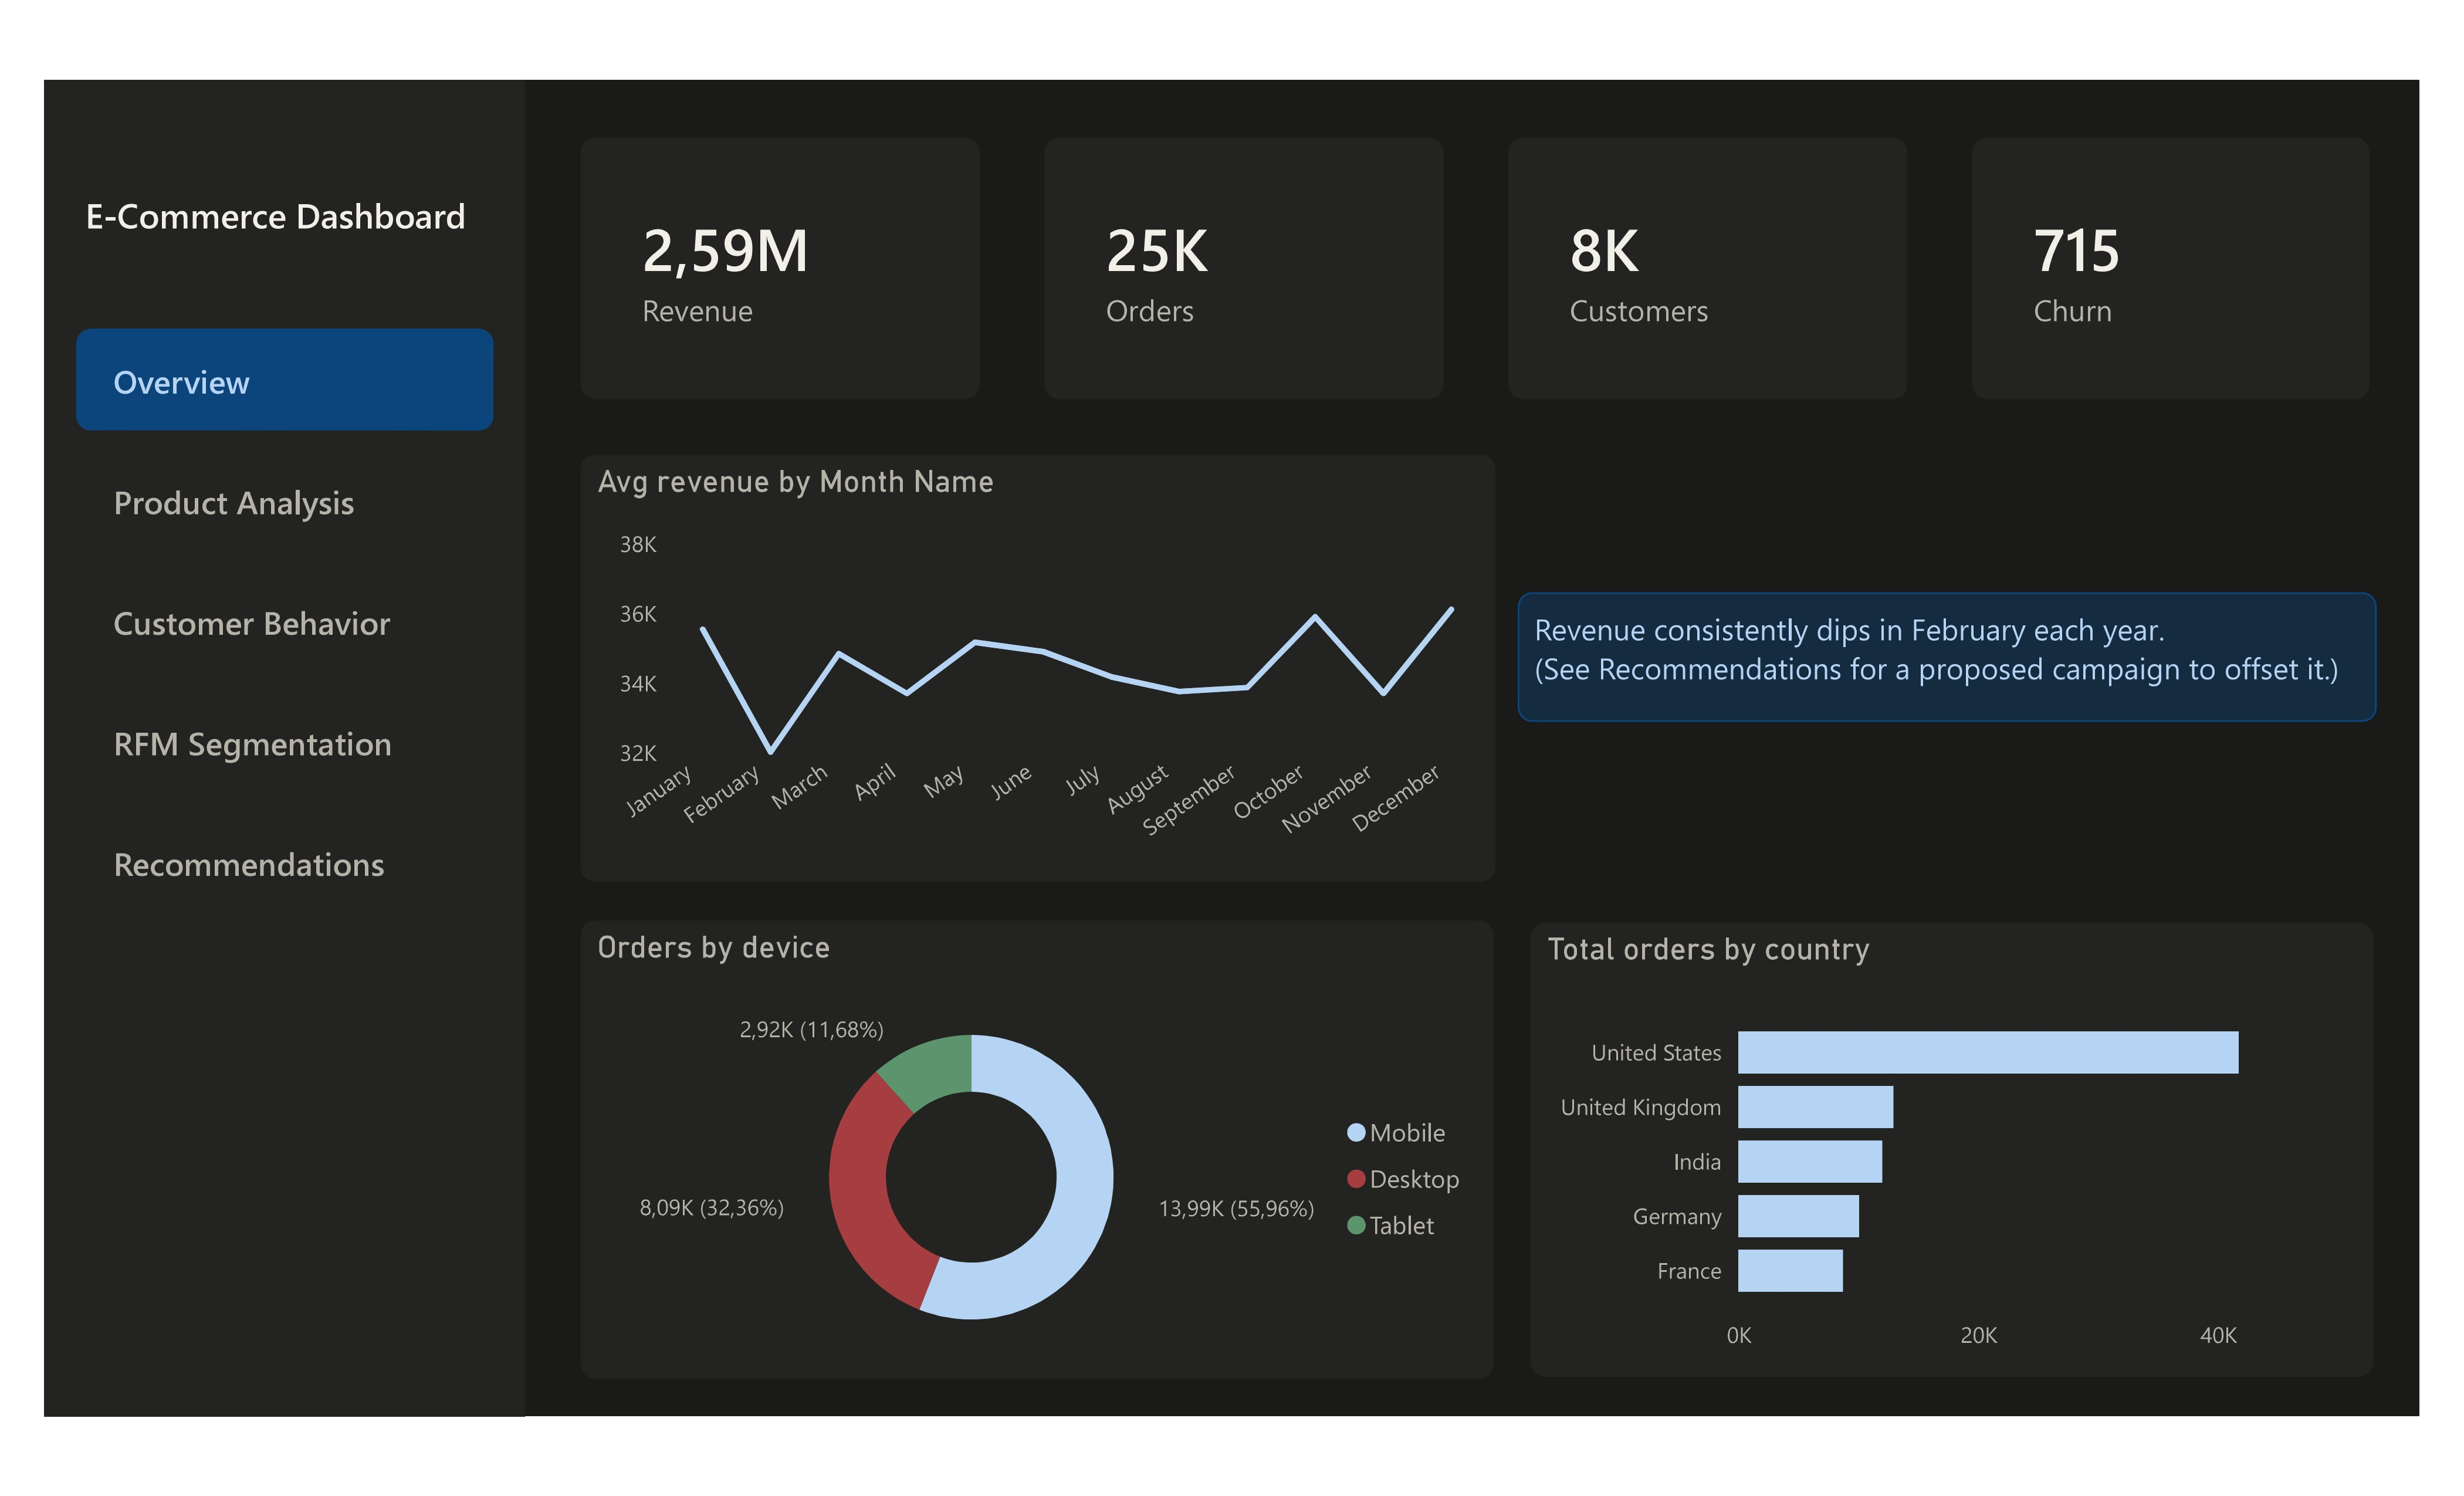

What the dashboard file says about the page in this screenshot:
{"tool":"powerbi","page":{"name":"Overview","canvas":[1280,720],"ordinal":0},"visuals":[{"type":"shape","box":[0,0,259.5,720.5],"z":0},{"type":"pageNavigator","box":[17.2,134.4,225.1,318.8],"z":1000},{"type":"textbox","box":[17.2,54.7,225.1,96.9],"z":2000},{"type":"textbox","box":[793.7,275.9,463,69.9],"z":3000},{"type":"cardVisual","fields":{"Data":["Sum(public monthly_revenue.revenue_usd)"]},"box":[289.4,31,214.7,140.5],"z":4000},{"type":"cardVisual","fields":{"Data":["CountNonNull(public orders.order_id)"]},"box":[539.1,31,214.7,140.5],"z":5000},{"type":"cardVisual","fields":{"Data":["CountNonNull(public customers.customer_id)"]},"box":[788.8,31,214.7,140.5],"z":6000},{"type":"cardVisual","fields":{"Data":["CountNonNull(customers.churned)"]},"box":[1038.6,31.4,214.7,140.5],"z":7000},{"type":"lineChart","fields":{"Y":["Avg(public monthly_revenue.revenue_usd)"],"Category":["monthly_revenue.Month Name"]},"box":[289.4,201.8,492.8,229.9],"z":8000},{"type":"barChart","fields":{"Category":["customers.country"],"Y":["Sum(customers.total_orders)"]},"box":[801.3,453.5,453.5,245.7],"z":9000},{"type":"donutChart","fields":{"Category":["public orders.device_used"],"Y":["CountNonNull(public orders.order_id)"]},"box":[289.4,453.1,491.2,246.4],"z":10000}]}

Visuals, with their boxes on the page's 1280x720 design canvas (x1, y1, x2, y2). These are canvas units, not pixel positions in the 2464x1496 screenshot, which may show the page scaled, cropped or inside an application window:
shape: crop(0, 0, 260, 720)
pageNavigator: crop(17, 134, 242, 453)
textbox: crop(17, 55, 242, 152)
textbox: crop(794, 276, 1257, 346)
cardVisual - Sum(public monthly_revenue.revenue_usd): crop(289, 31, 504, 172)
cardVisual - CountNonNull(public orders.order_id): crop(539, 31, 754, 172)
cardVisual - CountNonNull(public customers.customer_id): crop(789, 31, 1004, 172)
cardVisual - CountNonNull(customers.churned): crop(1039, 31, 1253, 172)
lineChart - Avg(public monthly_revenue.revenue_usd) x monthly_revenue.Month Name: crop(289, 202, 782, 432)
barChart - customers.country x Sum(customers.total_orders): crop(801, 454, 1255, 699)
donutChart - public orders.device_used x CountNonNull(public orders.order_id): crop(289, 453, 781, 700)
